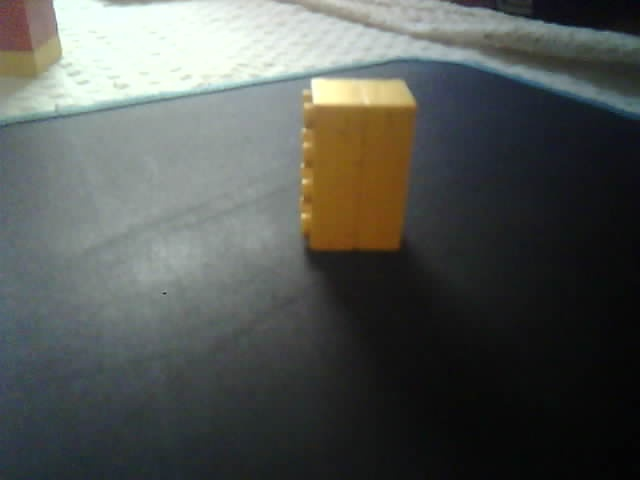lego: (298, 75, 417, 253), (1, 1, 63, 79)
